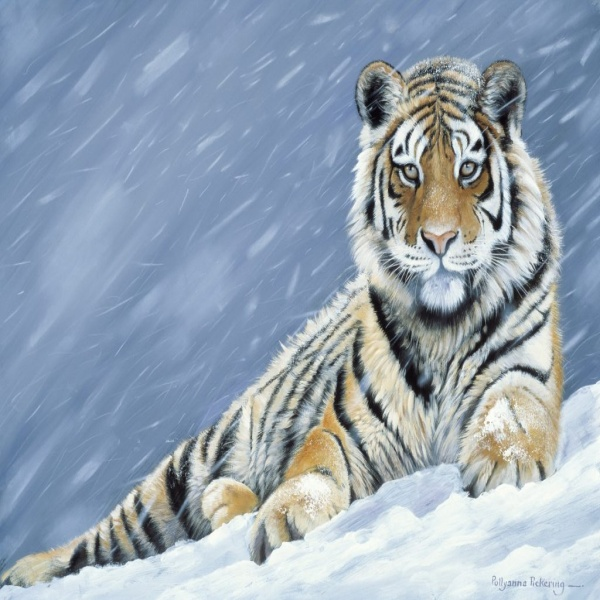Tiger: (10, 55, 567, 585)
